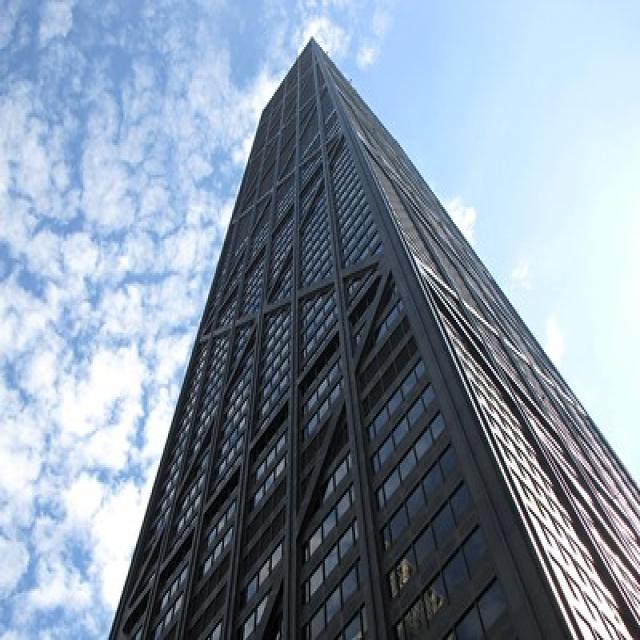Normal_building: (107, 36, 640, 640)
